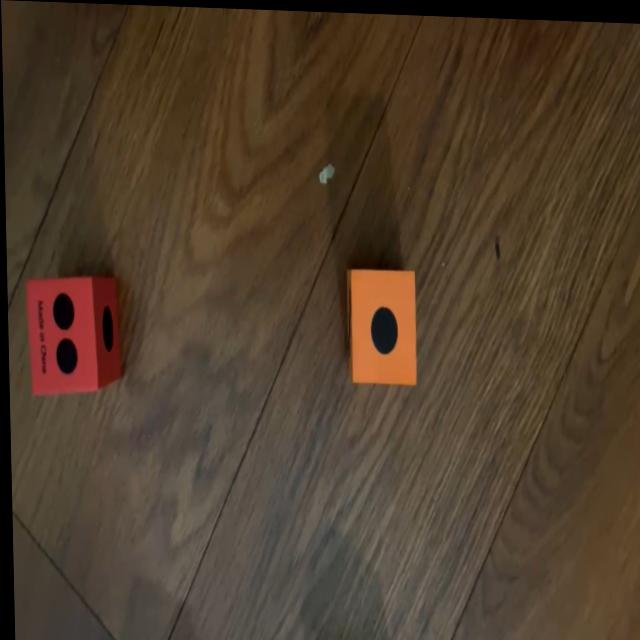red_block: (25, 274, 118, 402)
